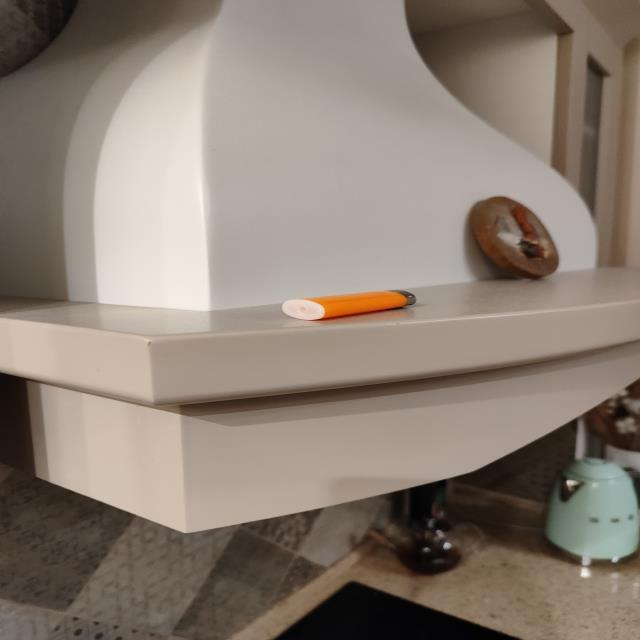lighter: (282, 291, 415, 320)
